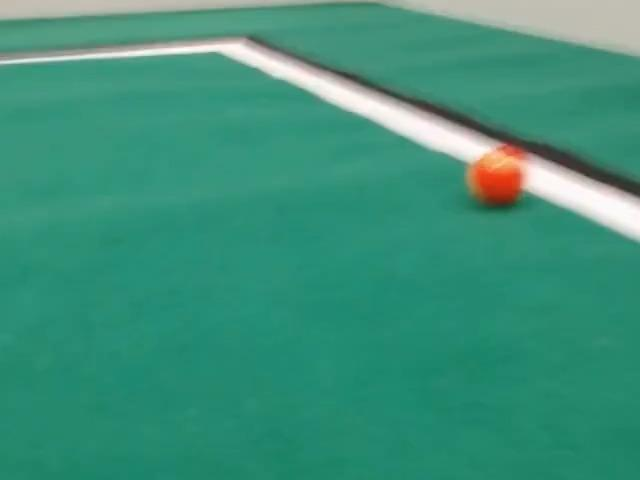Ball: (466, 150, 524, 205)
